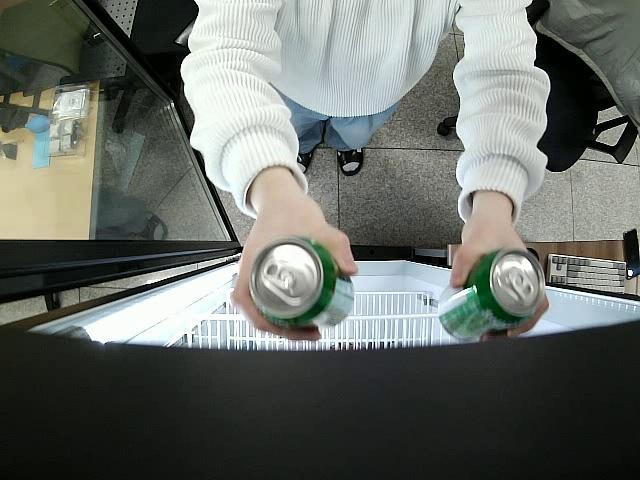12_chilsungCider: (245, 236, 354, 329), (438, 248, 544, 339)
